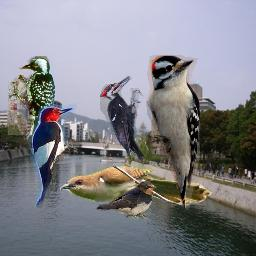Cuckoo: (60, 166, 212, 219)
Swallow: (96, 180, 157, 219)
Woodpecker: (145, 55, 200, 210), (23, 100, 78, 208), (100, 76, 145, 162), (8, 56, 55, 135)
